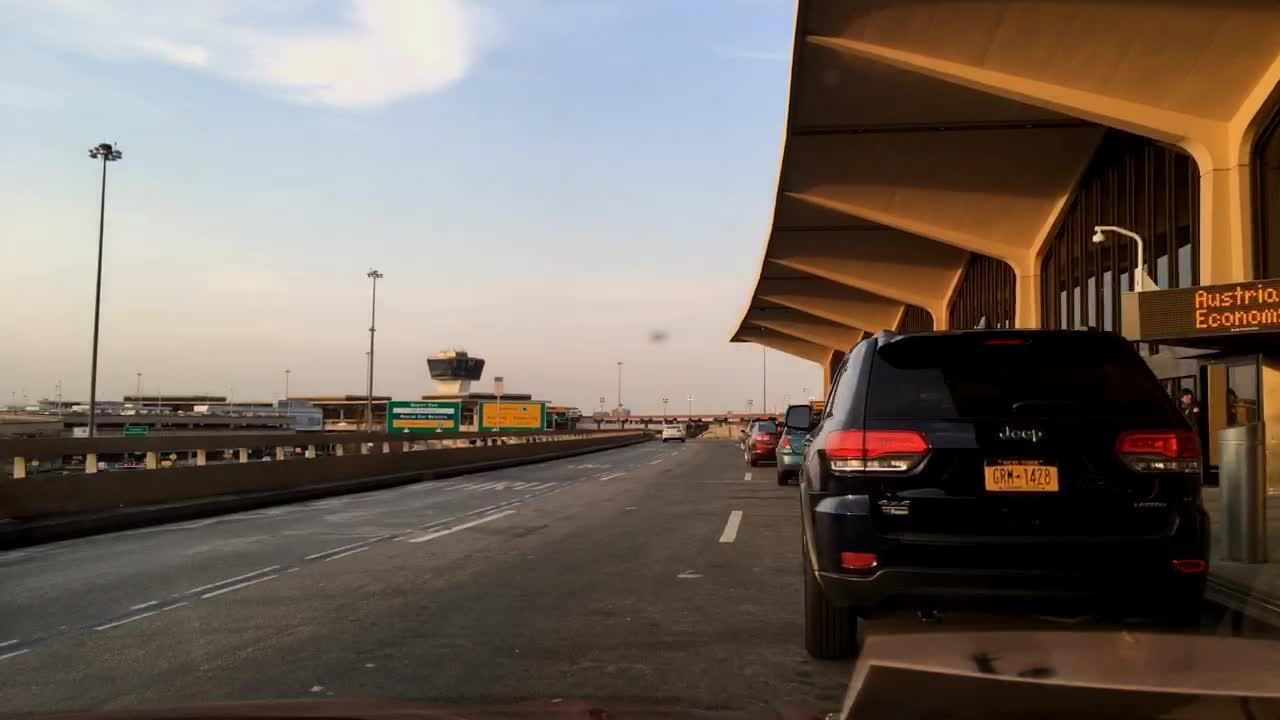jeep: (980, 419, 1058, 450)
